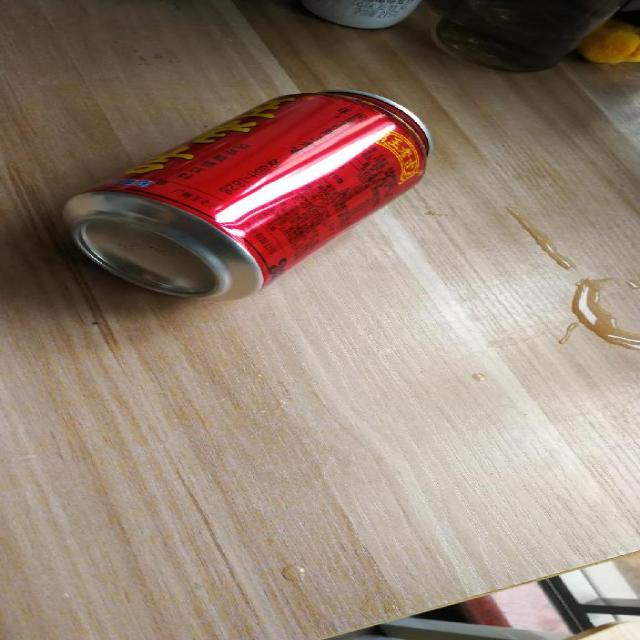-Recyclables - can-: (67, 85, 431, 302)
